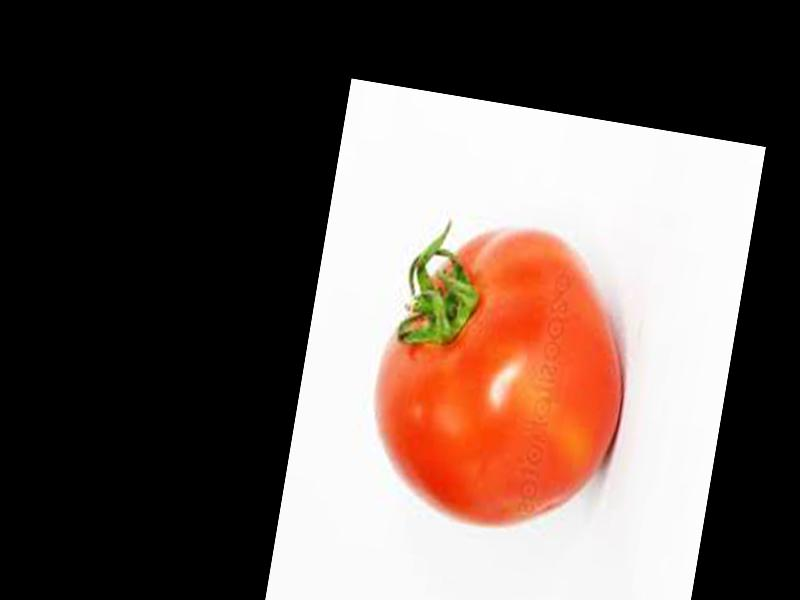Tomato: (352, 208, 646, 544)
